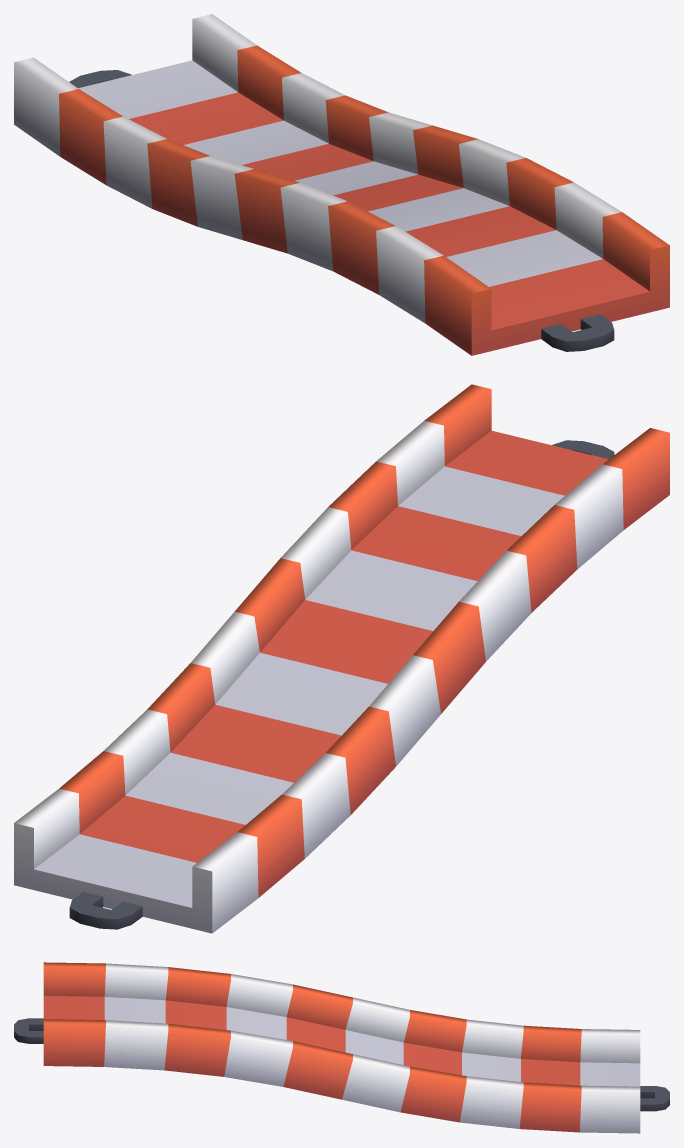
The model's file is track-striped-narrow-straight-hill-complete-half.glb.
The picture shows the model from 3 angles, top to bottom: view 1: azimuth 30°, elevation 25°; view 2: azimuth 150°, elevation 25°; view 3: azimuth 270°, elevation 25°; orthographic projection. The views are drawn at different scales.
Parts seen in each view (by area): view 1: track-striped-narrow-straight-hill-complete-half; view 2: track-striped-narrow-straight-hill-complete-half; view 3: track-striped-narrow-straight-hill-complete-half.
Boxes of the visible parts, <box> form: track-striped-narrow-straight-hill-complete-half: <box>14,14,669,355</box>; track-striped-narrow-straight-hill-complete-half: <box>14,384,669,933</box>; track-striped-narrow-straight-hill-complete-half: <box>14,962,669,1133</box>.
Bounding box in the file's own units: 1 × 0.7998 × 4.4.
1 material, 1 textured.
